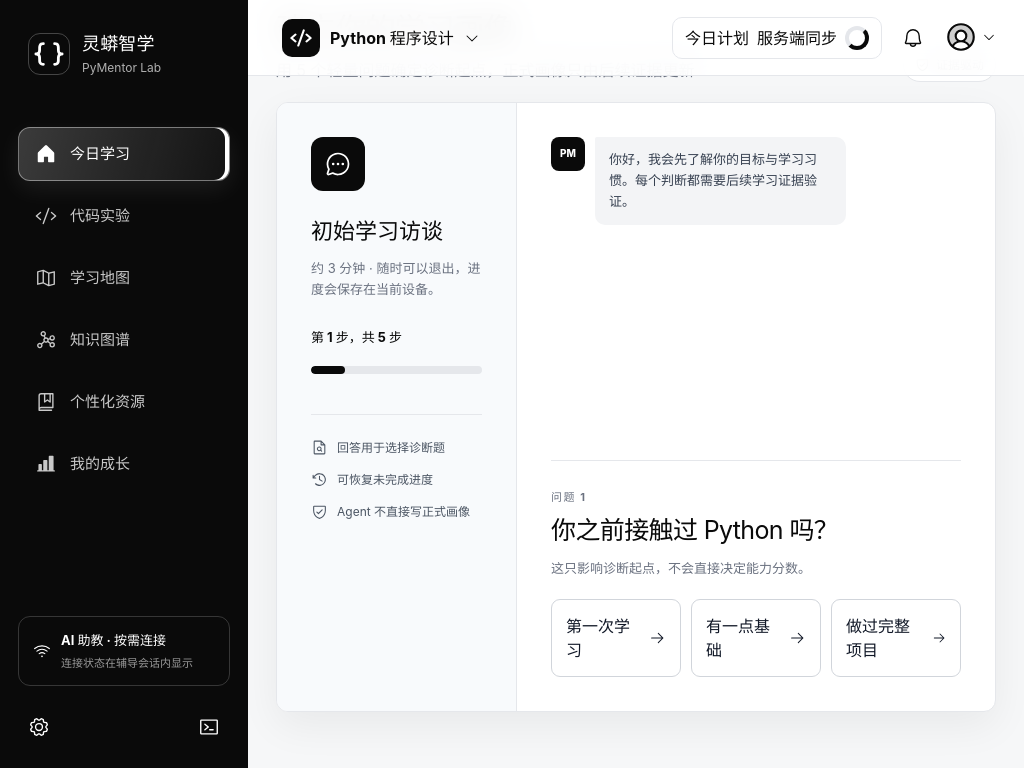
conversational onboarding › surfaces a visible error and keeps progress when the onboarding submission fails
The width and height of the screenshot is (1024, 768).
(page scrolled)
Click the button "有一点基础". click: (756, 638)
box: [691,599,821,677]
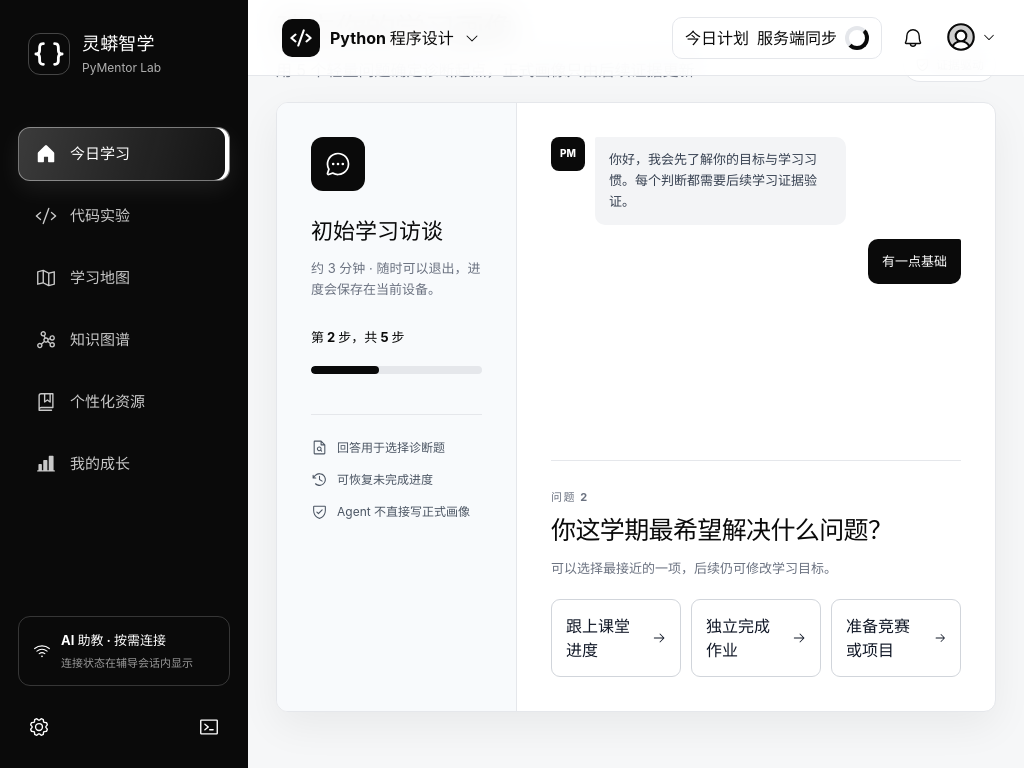
Click the button "跟上课堂进度". click: (616, 638)
box: [551,599,681,677]
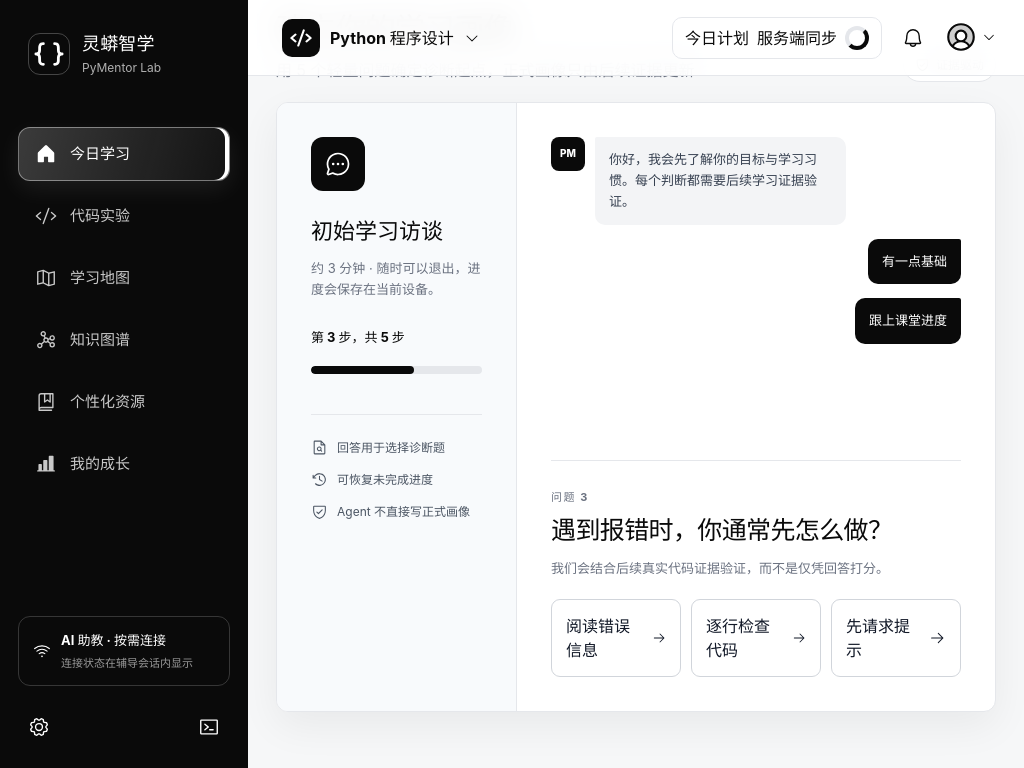
Click the button "逐行检查代码". click: (756, 638)
box: [691,599,821,677]
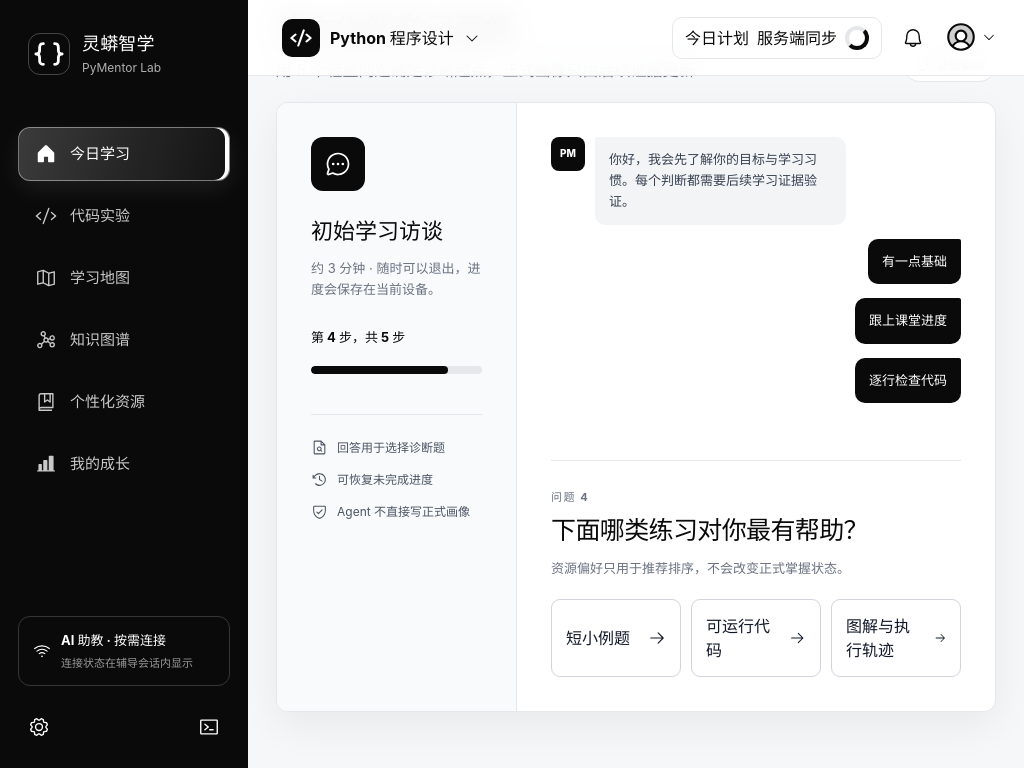
Click the button "短小例题". click: (616, 638)
box: [551,599,681,677]
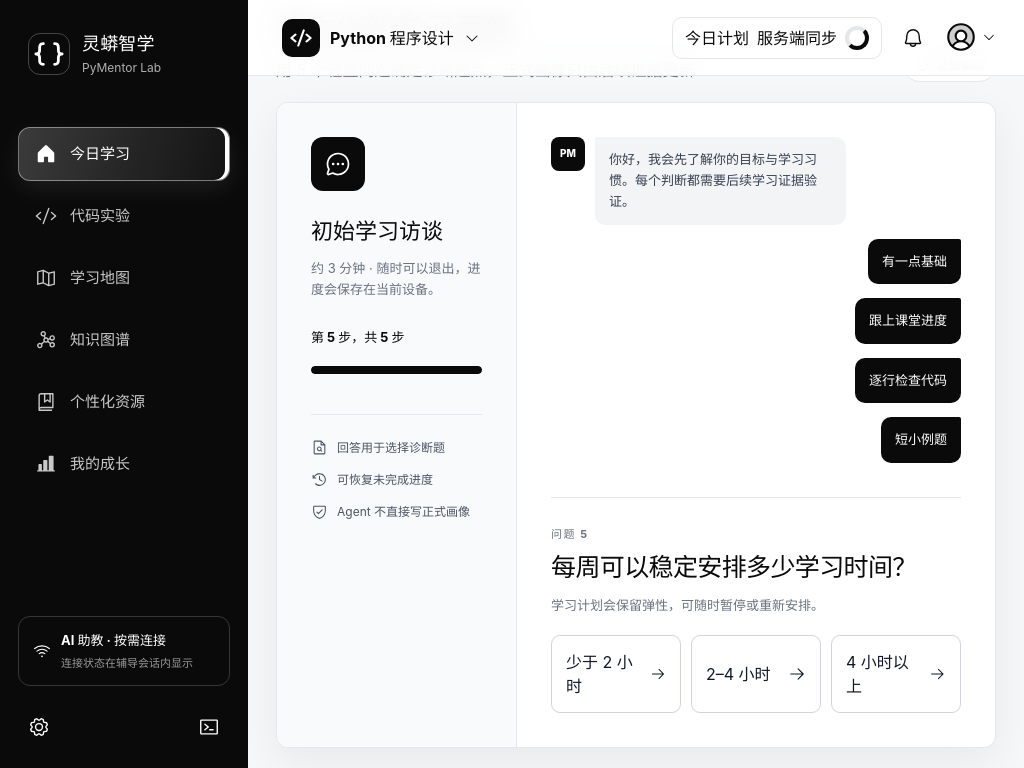
Click the button "2–4 小时". click: (756, 674)
box: [691,635,821,713]
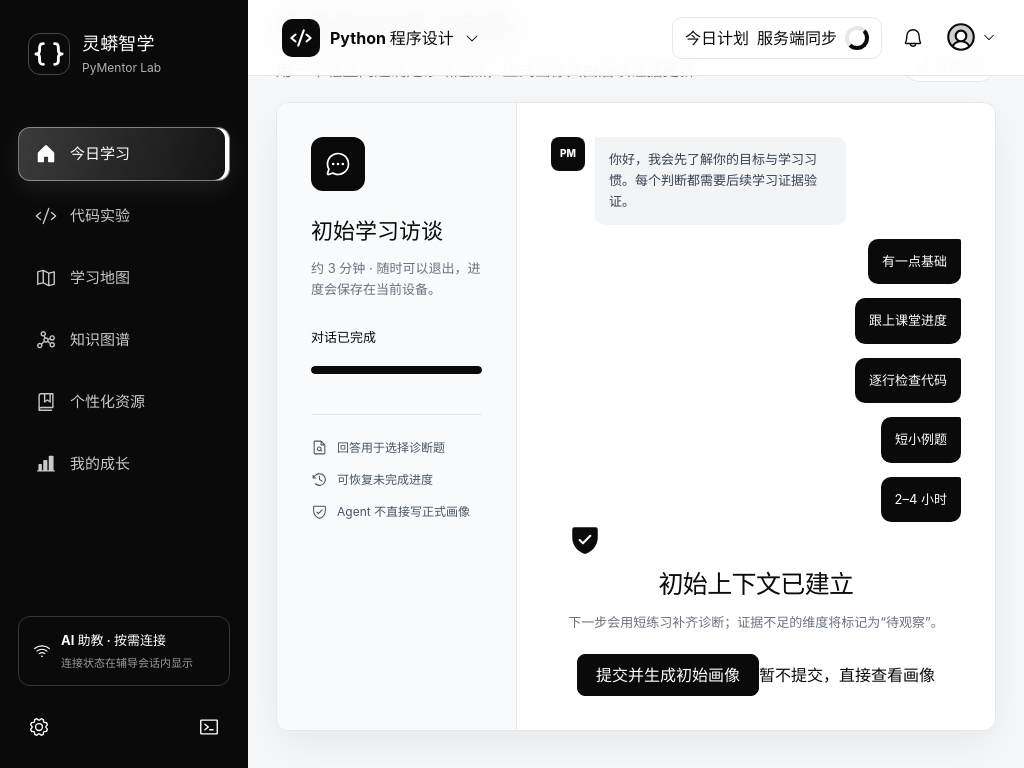
Click the button "提交并生成初始画像". click: (668, 675)
box: [577,654,759,696]
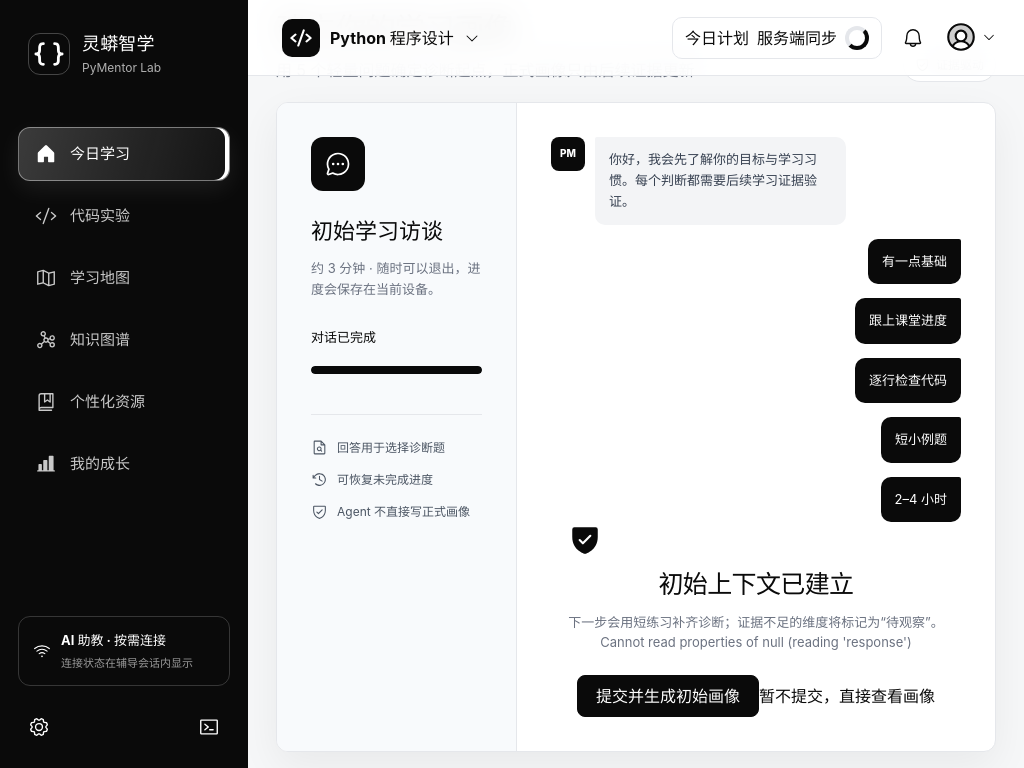
Expected: the message named "提交错误" is shown, [600,634,912,650]
